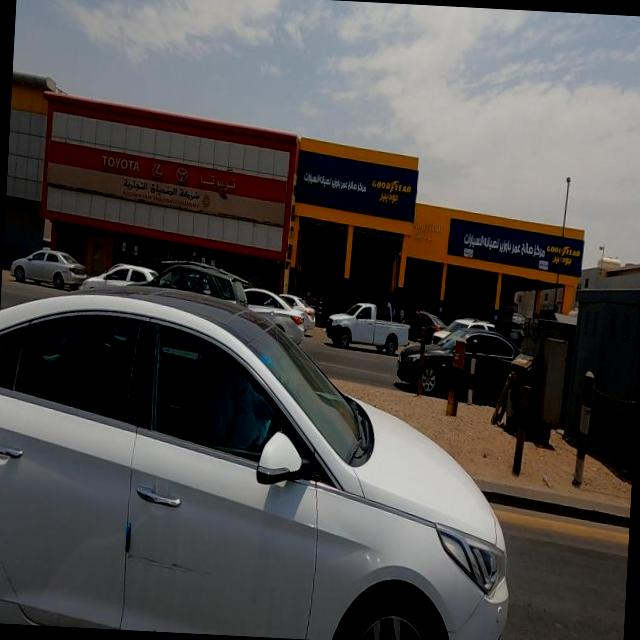debris: (475, 336, 559, 552), (427, 296, 482, 468)
